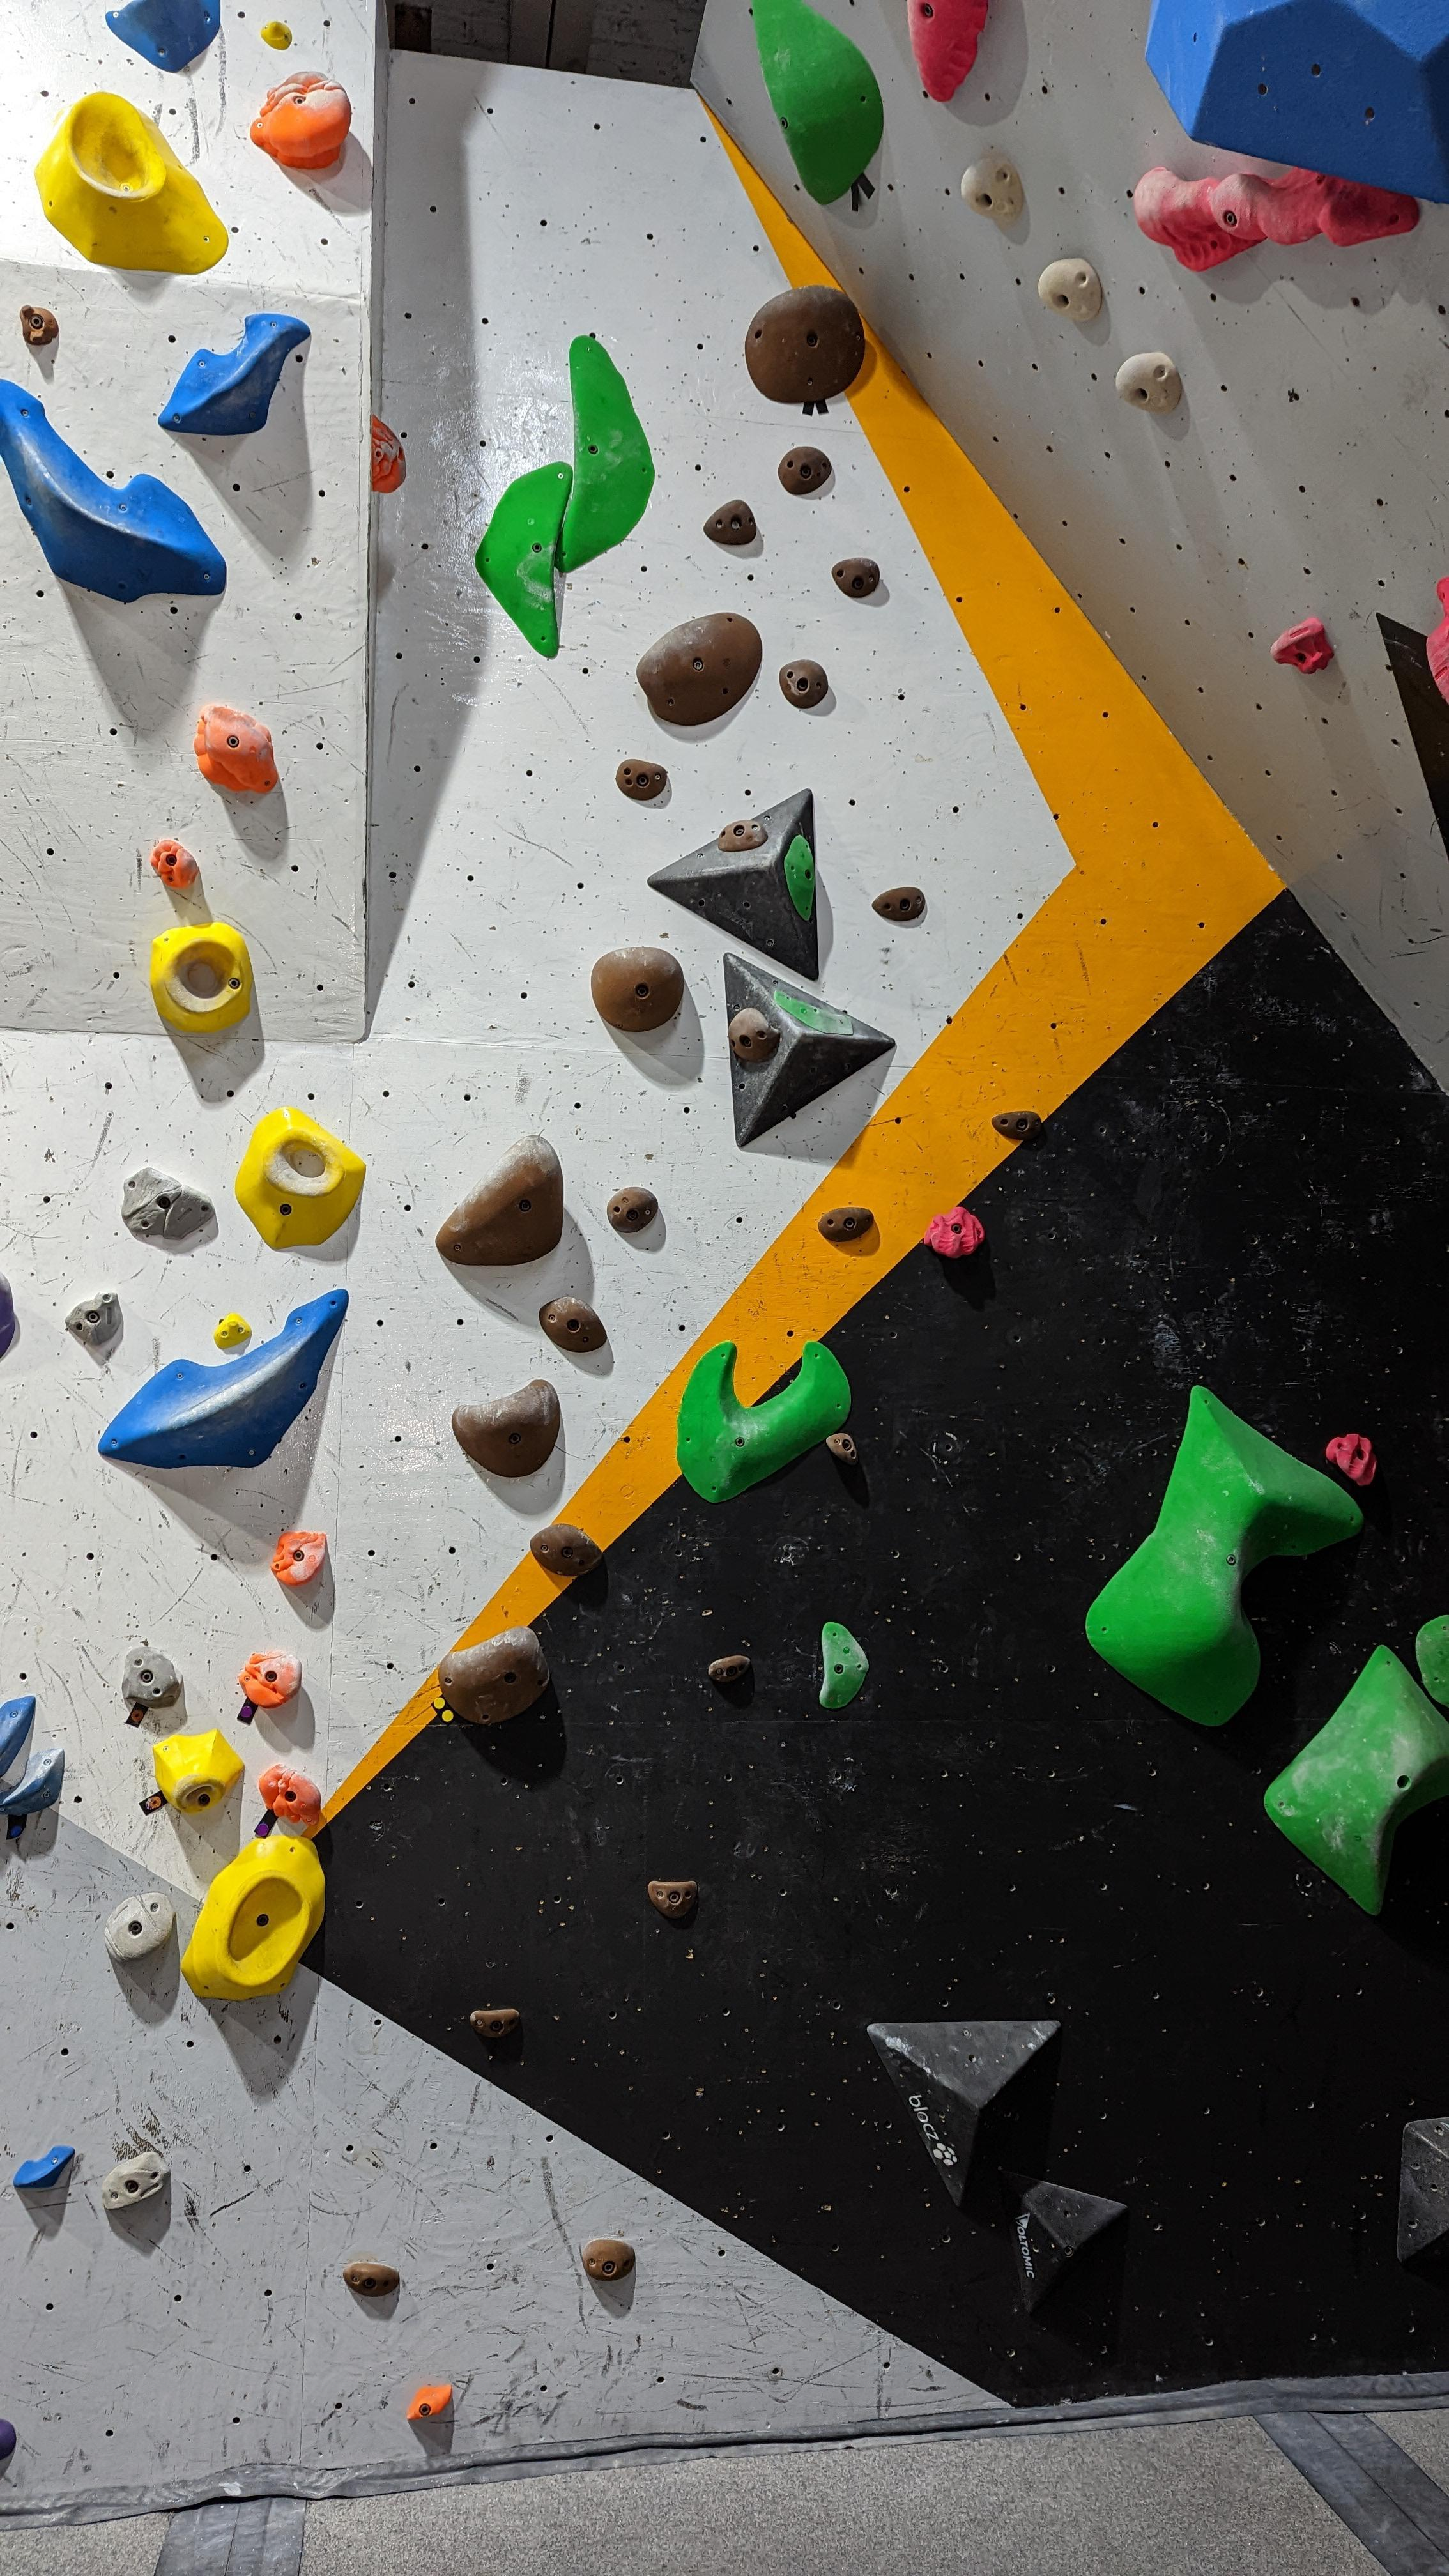hold: (1086, 1385, 1364, 1727), (1145, 0, 1449, 205), (0, 379, 226, 603), (1263, 1645, 1449, 1914), (97, 1290, 349, 1468), (34, 90, 228, 276), (1134, 165, 1421, 272), (676, 1339, 851, 1502), (752, 0, 883, 205), (180, 1833, 324, 2001), (554, 336, 655, 573), (234, 1106, 366, 1253), (474, 462, 573, 658), (157, 313, 310, 437), (435, 1136, 563, 1265), (745, 285, 865, 403), (637, 612, 763, 725), (150, 922, 253, 1033), (437, 1626, 550, 1725), (451, 1380, 561, 1477), (249, 71, 352, 170), (106, 0, 221, 74), (908, 0, 989, 103), (591, 947, 685, 1033), (154, 1729, 244, 1815), (193, 704, 278, 794), (120, 1168, 216, 1240), (104, 1891, 177, 1964), (819, 1622, 869, 1709), (0, 1748, 64, 1815), (961, 152, 1023, 221), (101, 2151, 172, 2210), (1039, 258, 1102, 322), (1116, 352, 1182, 414), (258, 1762, 320, 1826), (529, 1523, 603, 1576), (538, 1295, 607, 1352), (237, 1651, 303, 1709), (773, 989, 855, 1035), (122, 1647, 184, 1707), (1270, 617, 1334, 674), (924, 1207, 985, 1258), (1415, 1615, 1449, 1709), (1426, 575, 1449, 706), (65, 1292, 122, 1345), (0, 1695, 35, 1778), (271, 1532, 326, 1585), (727, 1008, 780, 1063), (12, 2144, 76, 2189), (1325, 1433, 1376, 1486), (372, 414, 405, 494), (784, 833, 814, 922), (778, 446, 832, 495), (150, 839, 200, 890), (704, 499, 757, 545), (607, 1187, 658, 1233), (780, 660, 828, 708), (582, 2240, 635, 2282), (616, 759, 667, 800), (343, 2261, 400, 2296), (817, 1207, 874, 1242), (832, 557, 879, 598), (872, 886, 925, 922), (649, 1881, 697, 1918), (717, 819, 768, 853), (407, 2383, 453, 2420), (19, 304, 58, 345), (471, 2010, 520, 2038), (991, 1111, 1040, 1139), (0, 1272, 16, 1359), (214, 1313, 251, 1348), (708, 1656, 750, 1683), (826, 1433, 858, 1465), (260, 21, 292, 50), (0, 2419, 16, 2461)
volume: (867, 2020, 1062, 2206), (724, 952, 895, 1146), (648, 789, 819, 982), (993, 2171, 1127, 2314), (1398, 2116, 1449, 2263)
